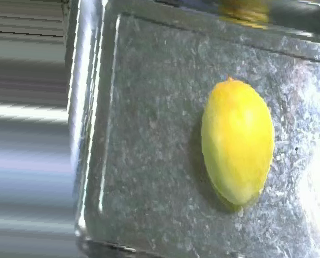Mango: (190, 74, 287, 214)
